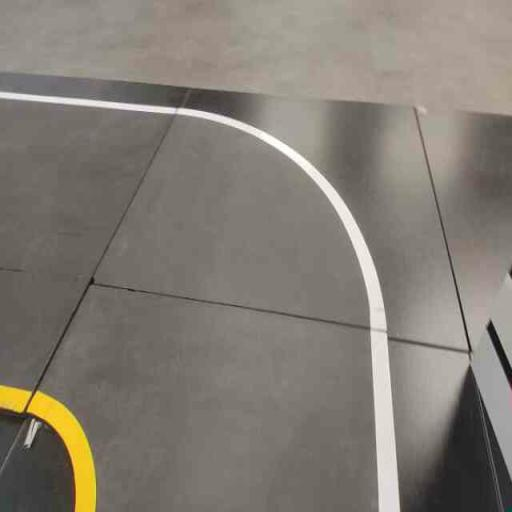left: (11, 92, 413, 511)
